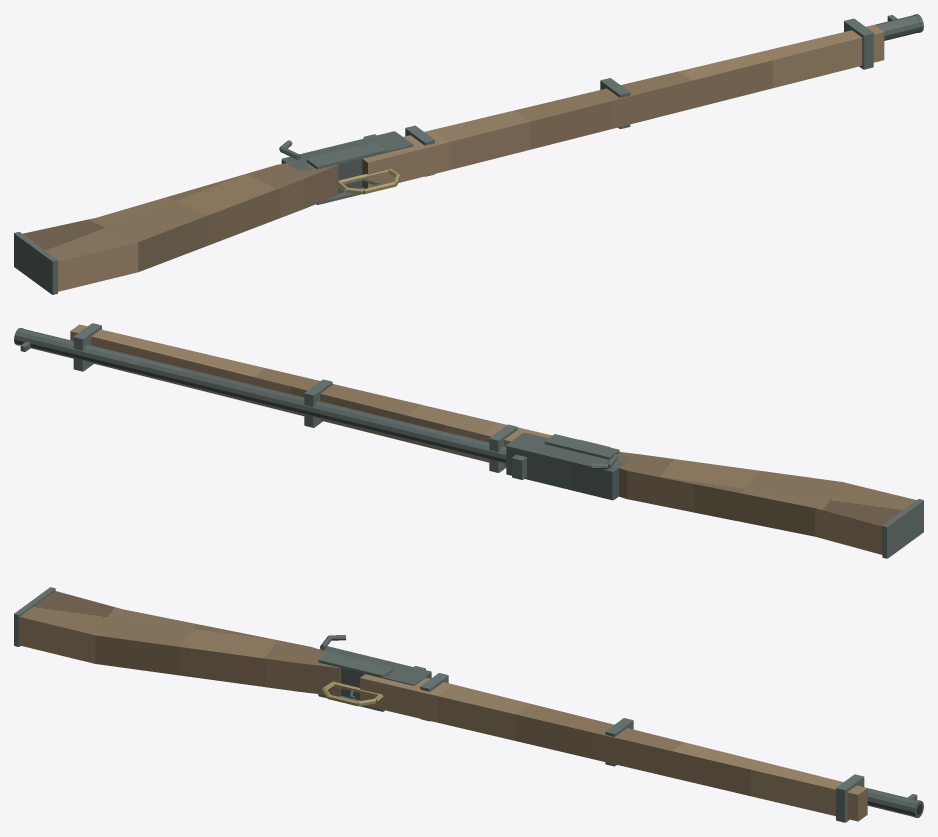
The model's file is weapon-enfield-1853.glb.
The picture shows the model from 3 angles, top to bottom: view 1: azimuth 30°, elevation 25°; view 2: azimuth 150°, elevation 25°; view 3: azimuth 330°, elevation 25°; orthographic projection. The views are drawn at different scales.
Visible parts, largest first — view 1: weapon-enfield-1853/tapered-full-depth-forend, weapon-enfield-1853/shaped-solid-butt, weapon-enfield-1853/central-receiver, weapon-enfield-1853/butt-end-plate, weapon-enfield-1853/external-lockplate-left, weapon-enfield-1853/long-barrel, weapon-enfield-1853/stock-band-2; view 2: weapon-enfield-1853/shaped-solid-butt, weapon-enfield-1853/tapered-full-depth-forend, weapon-enfield-1853/long-barrel, weapon-enfield-1853/central-receiver, weapon-enfield-1853/butt-end-plate, weapon-enfield-1853/external-lockplate-left, weapon-enfield-1853/stock-band-2, weapon-enfield-1853/stock-band-1, weapon-enfield-1853/stock-band-0; view 3: weapon-enfield-1853/tapered-full-depth-forend, weapon-enfield-1853/shaped-solid-butt, weapon-enfield-1853/central-receiver, weapon-enfield-1853/external-lockplate-left, weapon-enfield-1853/long-barrel, weapon-enfield-1853/stock-band-2.
Boxes of the visible parts, bbox=[...] form: weapon-enfield-1853/tapered-full-depth-forend: bbox=[362, 25, 884, 188]; weapon-enfield-1853/shaped-solid-butt: bbox=[23, 159, 338, 291]; weapon-enfield-1853/central-receiver: bbox=[281, 131, 413, 193]; weapon-enfield-1853/butt-end-plate: bbox=[14, 232, 57, 294]; weapon-enfield-1853/external-lockplate-left: bbox=[306, 142, 385, 169]; weapon-enfield-1853/long-barrel: bbox=[874, 15, 920, 40]; weapon-enfield-1853/stock-band-2: bbox=[844, 18, 873, 69]; weapon-enfield-1853/shaped-solid-butt: bbox=[589, 452, 916, 554]; weapon-enfield-1853/tapered-full-depth-forend: bbox=[70, 324, 552, 466]; weapon-enfield-1853/long-barrel: bbox=[17, 329, 506, 463]; weapon-enfield-1853/central-receiver: bbox=[506, 432, 630, 500]; weapon-enfield-1853/butt-end-plate: bbox=[882, 499, 923, 558]; weapon-enfield-1853/external-lockplate-left: bbox=[544, 434, 619, 459]; weapon-enfield-1853/stock-band-2: bbox=[73, 323, 101, 371]; weapon-enfield-1853/stock-band-1: bbox=[304, 379, 332, 427]; weapon-enfield-1853/stock-band-0: bbox=[489, 424, 517, 472]; weapon-enfield-1853/tapered-full-depth-forend: bbox=[360, 674, 867, 821]; weapon-enfield-1853/shaped-solid-butt: bbox=[19, 591, 340, 696]; weapon-enfield-1853/central-receiver: bbox=[314, 646, 431, 700]; weapon-enfield-1853/external-lockplate-left: bbox=[318, 652, 393, 677]; weapon-enfield-1853/long-barrel: bbox=[867, 788, 917, 816]; weapon-enfield-1853/stock-band-2: bbox=[836, 774, 864, 822].
Size of the model in its own units: 1.39 by 0.064 by 0.1539.
Materials: 4 (4 with a texture image).
